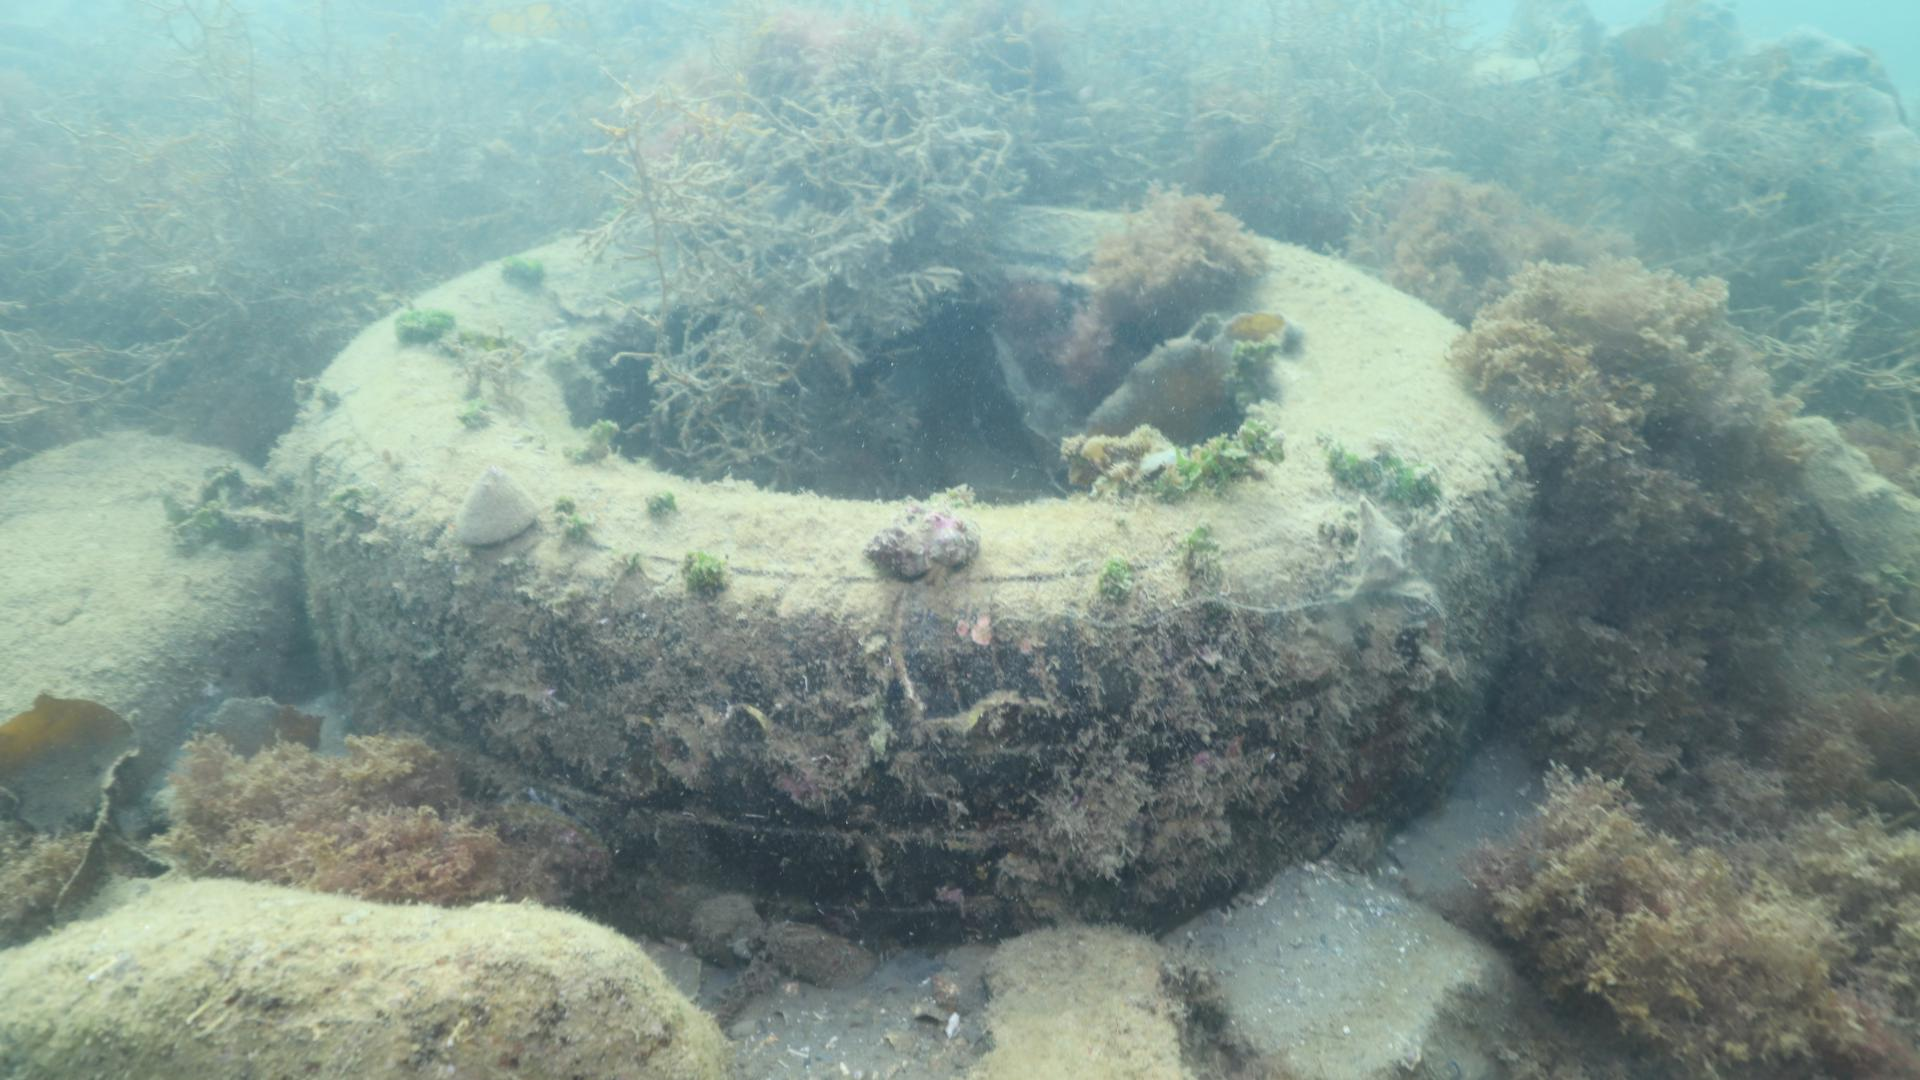tire: (301, 202, 1531, 948)
